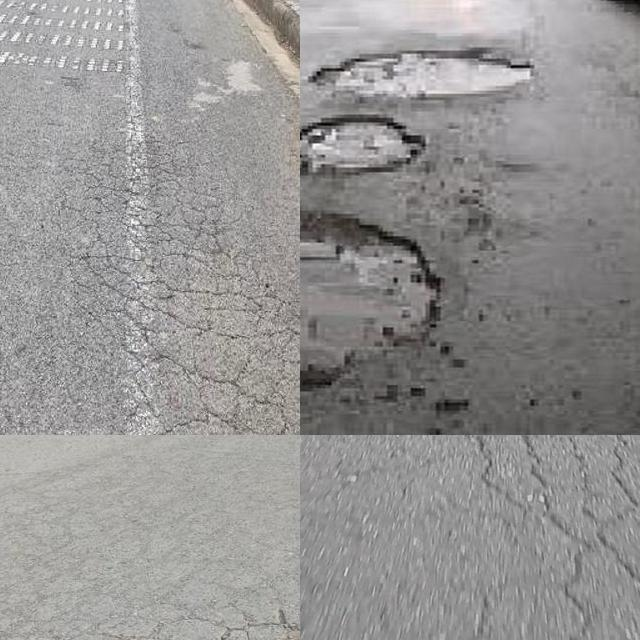Lubang: (300, 214, 436, 389), (302, 54, 542, 99), (300, 114, 427, 178)
Retak Buaya: (81, 139, 300, 435), (462, 435, 640, 640)
